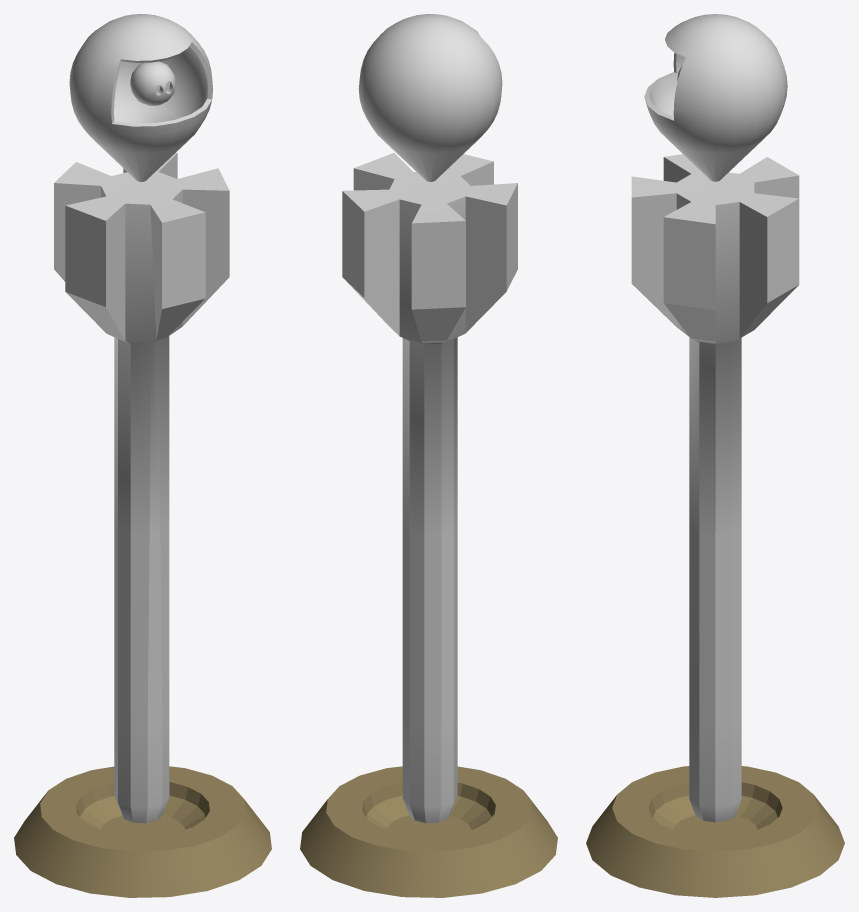
File: tower3.fbx
The picture shows the model from 3 angles, left to right: view 1: azimuth 30°, elevation 25°; view 2: azimuth 150°, elevation 25°; view 3: azimuth 270°, elevation 25°; orthographic projection.
Visible parts, largest first — view 1: new_ta_test:pCylinder4; view 2: new_ta_test:pCylinder4; view 3: new_ta_test:pCylinder4.
Part boxes in pixels (<box>): new_ta_test:pCylinder4: <box>14,14,271,897</box>; new_ta_test:pCylinder4: <box>300,14,557,897</box>; new_ta_test:pCylinder4: <box>586,14,844,897</box>.
Bounding box in the file's own units: 1.31 × 4.58 × 1.31.
